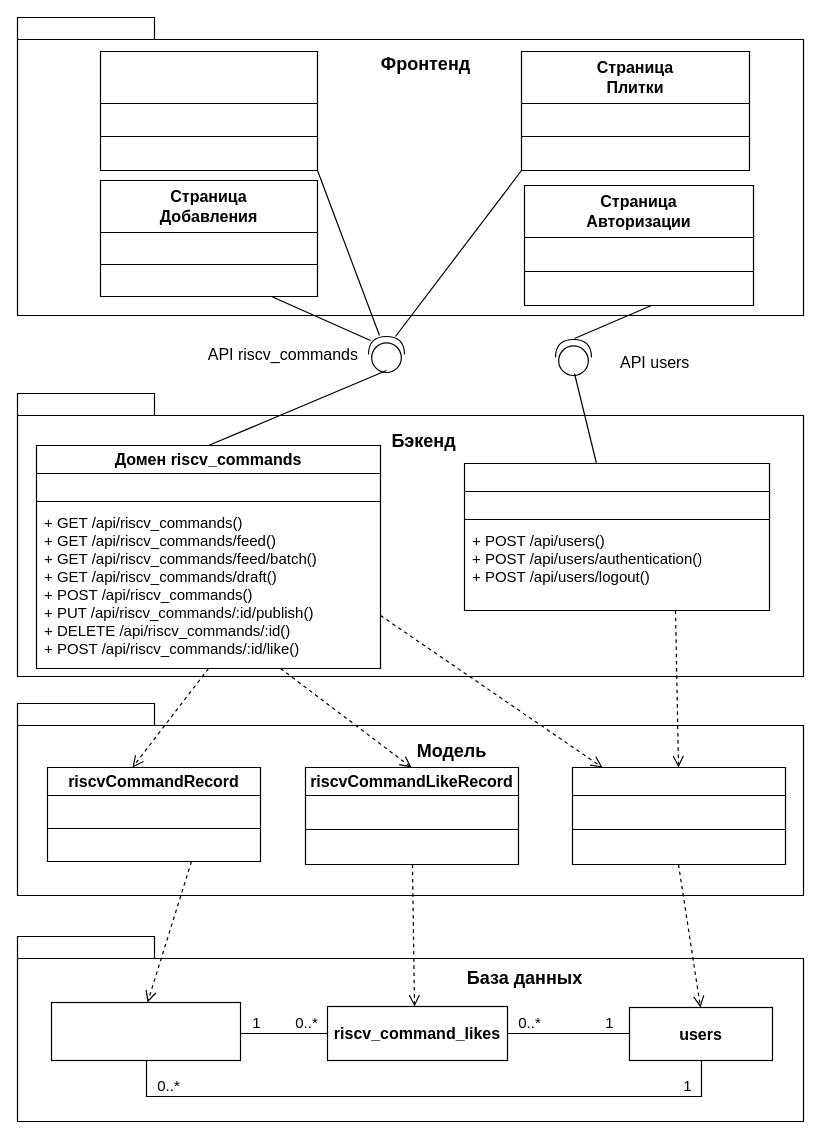
This 822x1140 diagram has some shape labels left out. Each missing label, with the box of its shape:
riscv_commands: (50, 1001, 241, 1061)
userRecord: (571, 766, 786, 865)
Домен users: (463, 462, 770, 611)
Страница Ленты: (99, 50, 318, 171)
